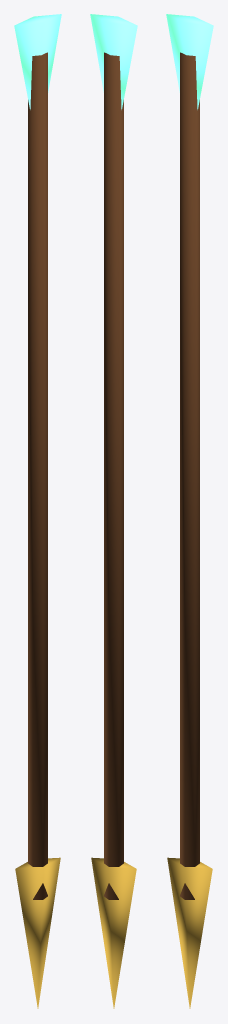
Rendered from weapon_arqueira_ia.glb.
3 views of the same model, side by side, from view 1: azimuth 30°, elevation 25°; view 2: azimuth 150°, elevation 25°; view 3: azimuth 330°, elevation 25° (orthographic).
Parts seen in each view (by area): view 1: HasteFlecha, PontaFlecha, PenaFlecha; view 2: HasteFlecha, PontaFlecha, PenaFlecha; view 3: HasteFlecha, PontaFlecha, PenaFlecha.
Part boxes in pixels (x1,y1,x2,y2): HasteFlecha: [28, 52, 47, 899]; PontaFlecha: [15, 857, 60, 1008]; PenaFlecha: [14, 14, 61, 109]; HasteFlecha: [104, 52, 123, 899]; PontaFlecha: [91, 857, 136, 1008]; PenaFlecha: [90, 14, 137, 109]; HasteFlecha: [180, 52, 199, 899]; PontaFlecha: [167, 857, 212, 1008]; PenaFlecha: [166, 14, 213, 109].
Bounding box in the file's own units: 0.068 × 1.35 × 0.028.
